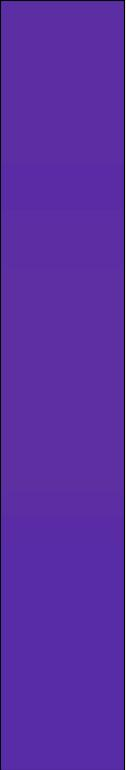safe: (1, 6, 115, 763)
